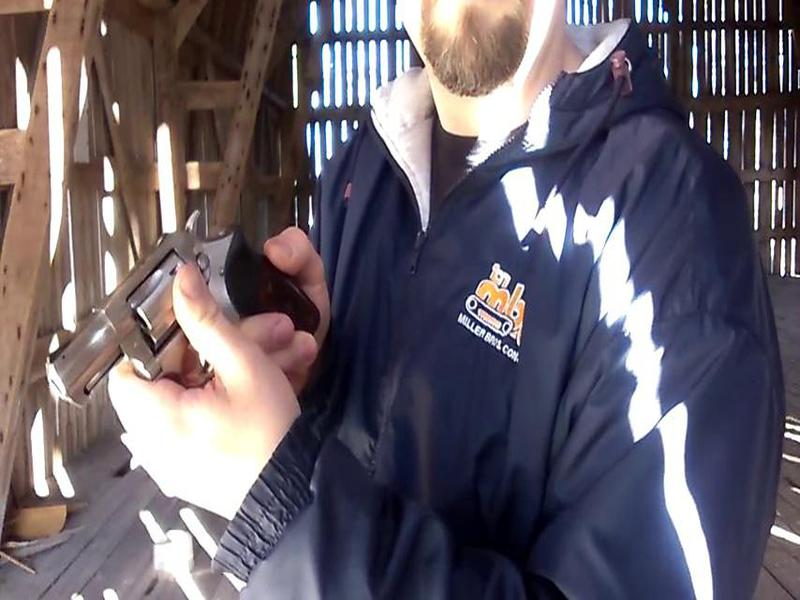Revolver: (45, 224, 319, 432)
